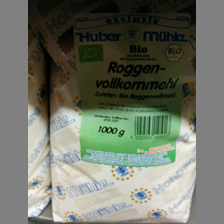flour: (46, 25, 195, 222)
